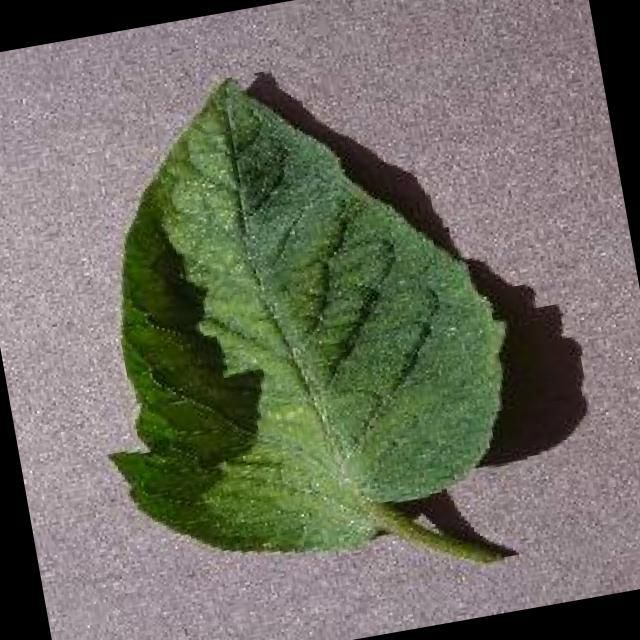Tomato spider mites leaf: (46, 36, 540, 586)
